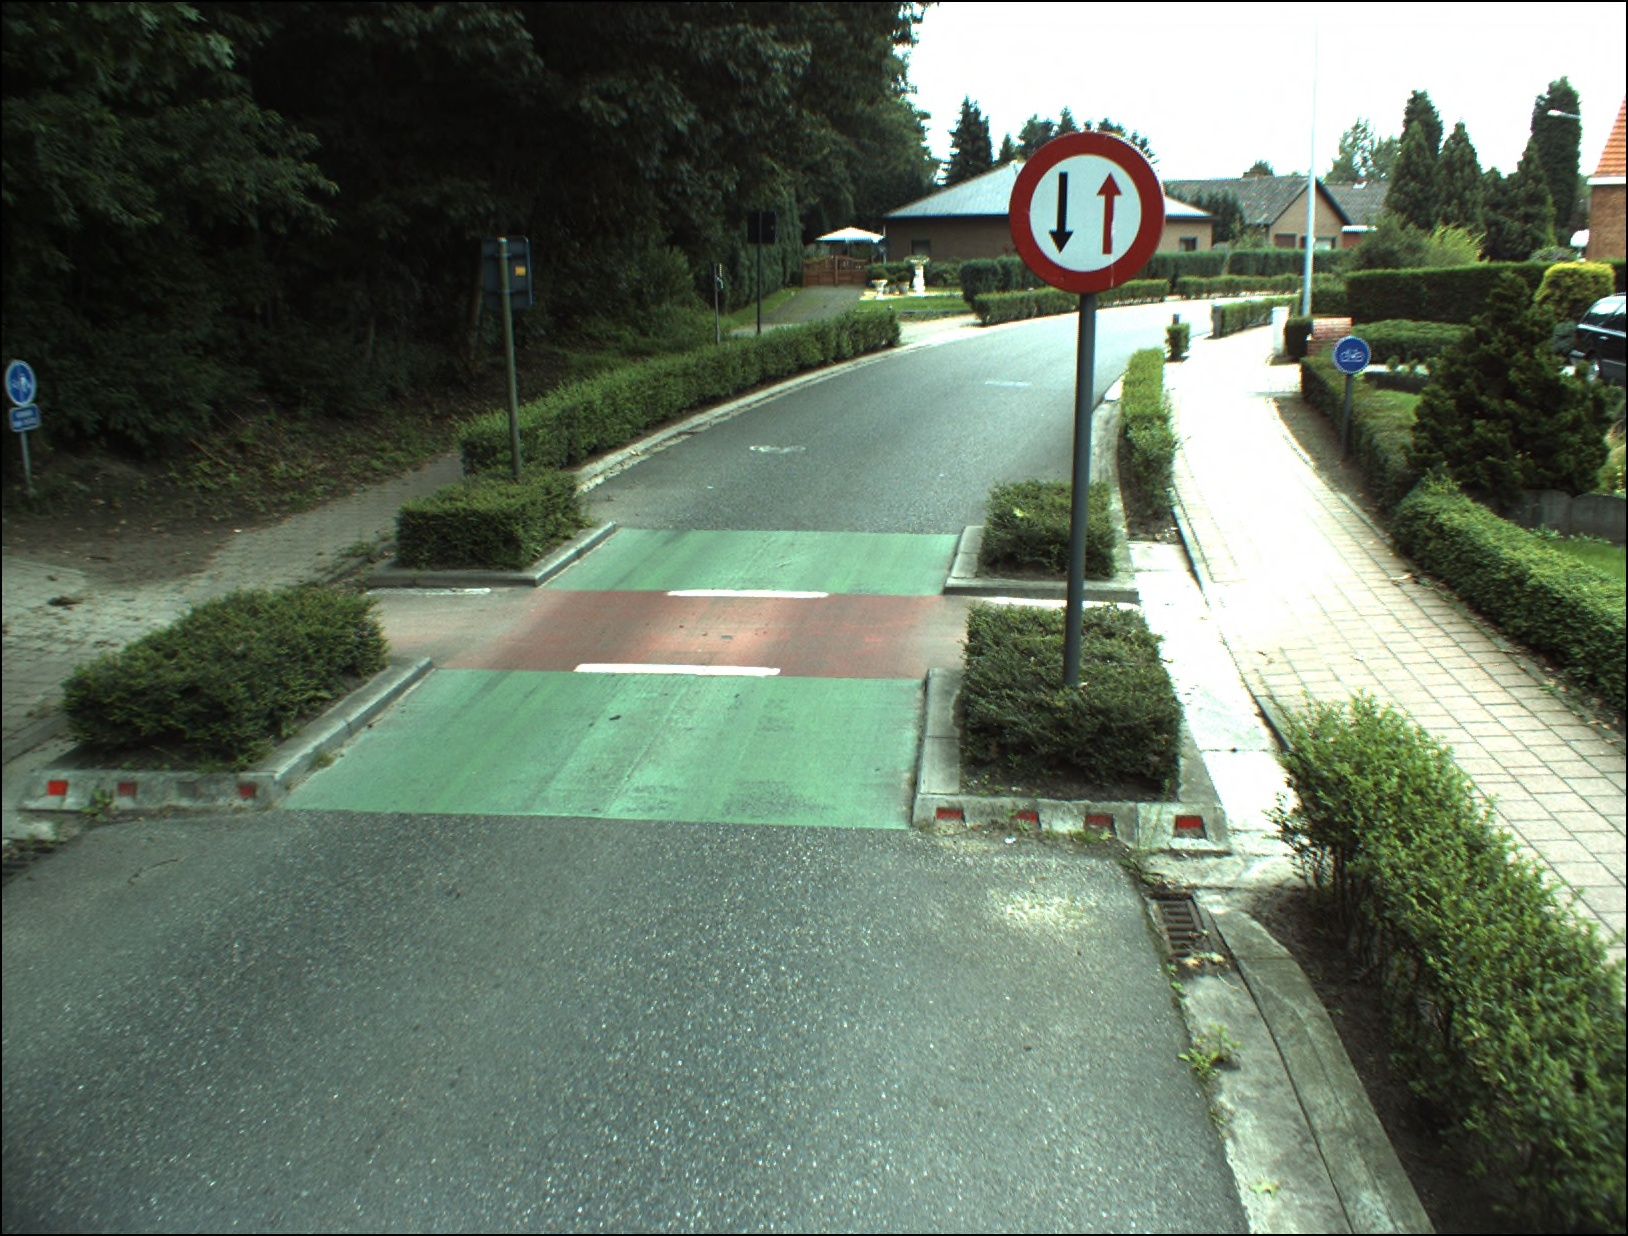roadnarrow2: (1010, 129, 1165, 293)
